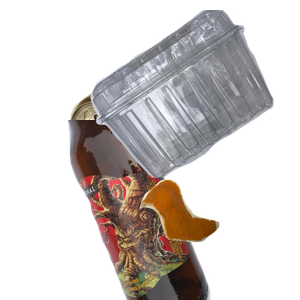glass: (65, 120, 300, 300)
metal: (67, 87, 206, 234)
plastic: (88, 10, 300, 180)
trash: (137, 177, 300, 300)
